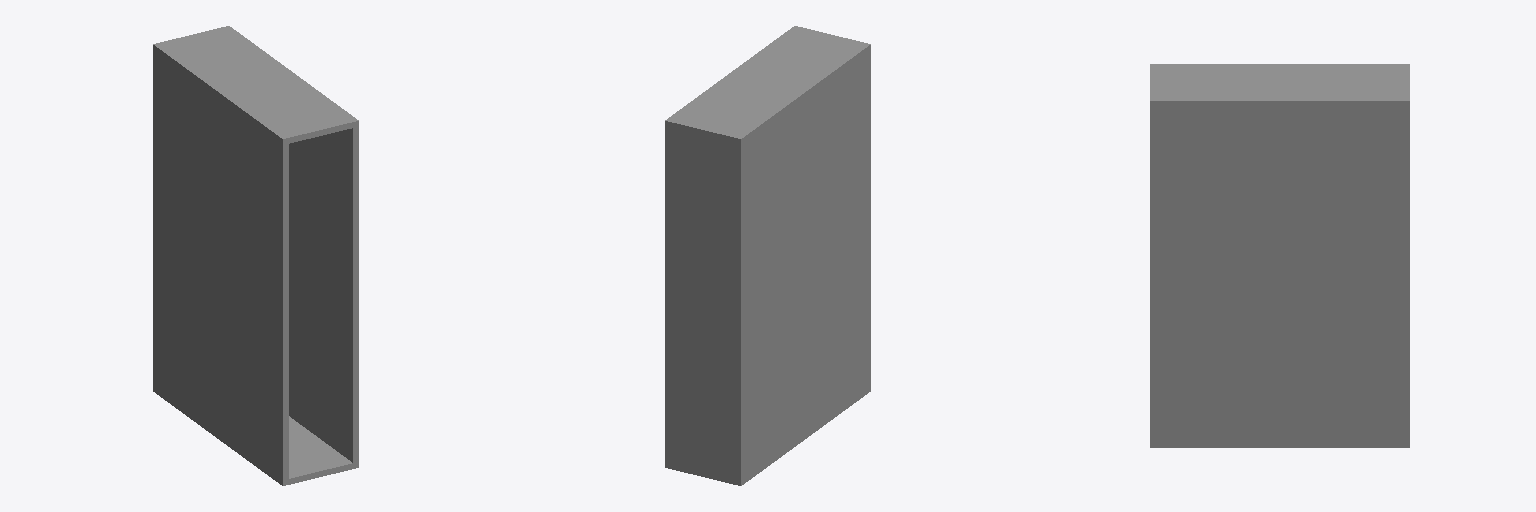
The model's file is tray-space-200.obj.
The picture shows the model from 3 angles: view 1: azimuth 30°, elevation 25°; view 2: azimuth 150°, elevation 25°; view 3: azimuth 270°, elevation 25°; orthographic projection.
Visible parts, largest first — view 1: Cube.002_Cube.004, Cube.001_Cube.003, Cube.004_Cube.005, Cube.003_Cube.001; view 2: Cube.002_Cube.004, Cube.000, Cube.004_Cube.005, Cube.001_Cube.003; view 3: Cube.001_Cube.003, Cube.004_Cube.005, Cube.002_Cube.004.
Part boxes in pixels (x1,y1,x2,y2): Cube.002_Cube.004: (153, 43, 288, 485); Cube.001_Cube.003: (224, 26, 358, 468); Cube.004_Cube.005: (162, 30, 352, 143); Cube.003_Cube.001: (289, 416, 352, 484); Cube.002_Cube.004: (735, 43, 870, 485); Cube.000: (671, 120, 738, 484); Cube.004_Cube.005: (674, 27, 863, 134); Cube.001_Cube.003: (665, 26, 799, 468); Cube.001_Cube.003: (1150, 98, 1409, 447); Cube.004_Cube.005: (1150, 67, 1402, 97); Cube.002_Cube.004: (1150, 64, 1409, 66).
Bounding box in the file's own units: 40 × 174 × 118.